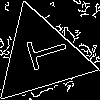T: (16, 31, 70, 74)
